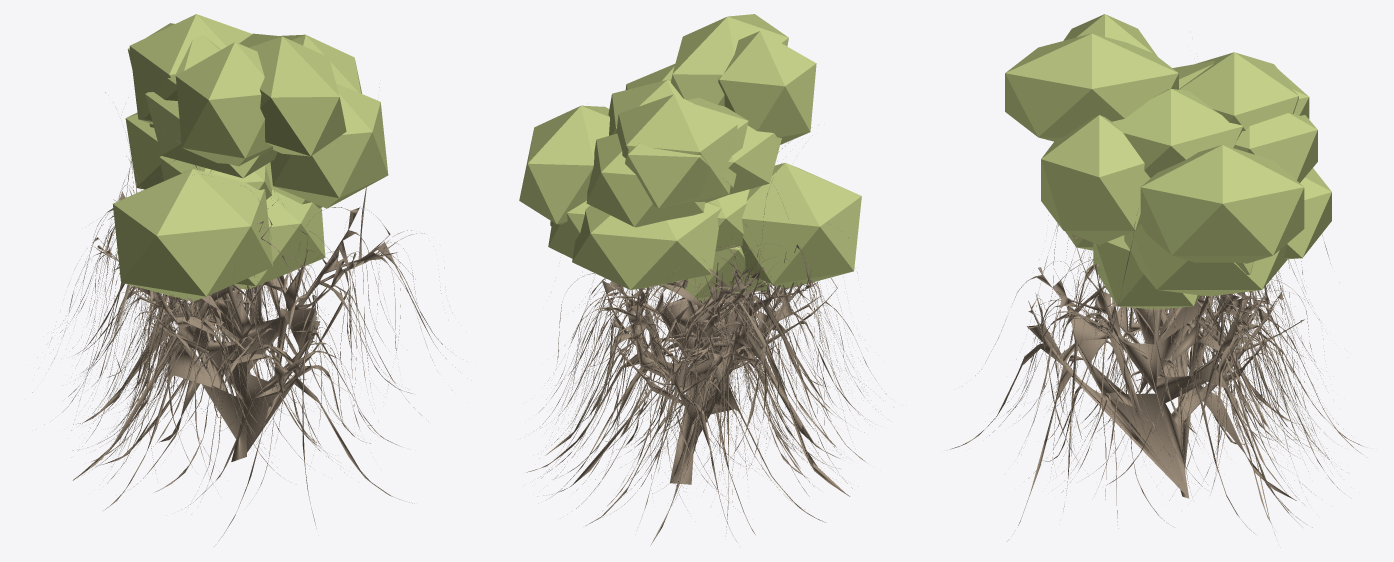
The model's file is StreetGinkgo_Willow.fbx.
3 renders of one model, left to right at view 1: azimuth 30°, elevation 25°; view 2: azimuth 150°, elevation 25°; view 3: azimuth 270°, elevation 25°, orthographic. The views are drawn at different scales.
Parts seen in each view (by area): view 1: Tree_27, StreetGinkgo_Willow_leaf_cluster_12, StreetGinkgo_Willow_leaf_cluster_00, StreetGinkgo_Willow_leaf_cluster_03, StreetGinkgo_Willow_leaf_cluster_15, StreetGinkgo_Willow_leaf_cluster_08, StreetGinkgo_Willow_leaf_cluster_13, StreetGinkgo_Willow_leaf_cluster_06, StreetGinkgo_Willow_leaf_cluster_04, StreetGinkgo_Willow_leaf_cluster_01, StreetGinkgo_Willow_leaf_cluster_02, StreetGinkgo_Willow_leaf_cluster_10; view 2: Tree_27, StreetGinkgo_Willow_leaf_cluster_12, StreetGinkgo_Willow_leaf_cluster_04, StreetGinkgo_Willow_leaf_cluster_00, StreetGinkgo_Willow_leaf_cluster_02, StreetGinkgo_Willow_leaf_cluster_08, StreetGinkgo_Willow_leaf_cluster_03, StreetGinkgo_Willow_leaf_cluster_01, StreetGinkgo_Willow_leaf_cluster_11, StreetGinkgo_Willow_leaf_cluster_06, StreetGinkgo_Willow_leaf_cluster_13, StreetGinkgo_Willow_leaf_cluster_10 (+3 smaller); view 3: Tree_27, StreetGinkgo_Willow_leaf_cluster_02, StreetGinkgo_Willow_leaf_cluster_03, StreetGinkgo_Willow_leaf_cluster_15, StreetGinkgo_Willow_leaf_cluster_07, StreetGinkgo_Willow_leaf_cluster_08, StreetGinkgo_Willow_leaf_cluster_05, StreetGinkgo_Willow_leaf_cluster_11, StreetGinkgo_Willow_leaf_cluster_13, StreetGinkgo_Willow_leaf_cluster_04, StreetGinkgo_Willow_leaf_cluster_00, StreetGinkgo_Willow_leaf_cluster_01.
Boxes of the visible parts, left/top/right/bottom form: Tree_27: left=32, top=87, right=455, bottom=546; StreetGinkgo_Willow_leaf_cluster_12: left=113, top=169, right=273, bottom=301; StreetGinkgo_Willow_leaf_cluster_00: left=175, top=42, right=272, bottom=166; StreetGinkgo_Willow_leaf_cluster_03: left=239, top=33, right=346, bottom=156; StreetGinkgo_Willow_leaf_cluster_15: left=270, top=83, right=388, bottom=208; StreetGinkgo_Willow_leaf_cluster_08: left=129, top=14, right=252, bottom=124; StreetGinkgo_Willow_leaf_cluster_13: left=232, top=190, right=325, bottom=289; StreetGinkgo_Willow_leaf_cluster_06: left=145, top=92, right=277, bottom=178; StreetGinkgo_Willow_leaf_cluster_04: left=125, top=112, right=163, bottom=189; StreetGinkgo_Willow_leaf_cluster_01: left=127, top=23, right=221, bottom=121; StreetGinkgo_Willow_leaf_cluster_02: left=280, top=34, right=361, bottom=93; StreetGinkgo_Willow_leaf_cluster_10: left=159, top=156, right=271, bottom=199; Tree_27: left=526, top=128, right=886, bottom=545; StreetGinkgo_Willow_leaf_cluster_12: left=740, top=162, right=861, bottom=289; StreetGinkgo_Willow_leaf_cluster_04: left=572, top=202, right=721, bottom=289; StreetGinkgo_Willow_leaf_cluster_00: left=718, top=31, right=816, bottom=144; StreetGinkgo_Willow_leaf_cluster_02: left=519, top=105, right=609, bottom=224; StreetGinkgo_Willow_leaf_cluster_08: left=616, top=94, right=737, bottom=207; StreetGinkgo_Willow_leaf_cluster_03: left=671, top=14, right=788, bottom=106; StreetGinkgo_Willow_leaf_cluster_01: left=625, top=98, right=748, bottom=208; StreetGinkgo_Willow_leaf_cluster_11: left=586, top=133, right=705, bottom=227; StreetGinkgo_Willow_leaf_cluster_06: left=728, top=125, right=781, bottom=194; StreetGinkgo_Willow_leaf_cluster_13: left=658, top=246, right=769, bottom=302; StreetGinkgo_Willow_leaf_cluster_10: left=708, top=189, right=749, bottom=251; Tree_27: left=950, top=208, right=1364, bottom=541; StreetGinkgo_Willow_leaf_cluster_02: left=1140, top=145, right=1304, bottom=263; StreetGinkgo_Willow_leaf_cluster_03: left=1005, top=33, right=1178, bottom=141; StreetGinkgo_Willow_leaf_cluster_15: left=1041, top=115, right=1150, bottom=244; StreetGinkgo_Willow_leaf_cluster_07: left=1112, top=89, right=1243, bottom=178; StreetGinkgo_Willow_leaf_cluster_08: left=1179, top=52, right=1298, bottom=131; StreetGinkgo_Willow_leaf_cluster_05: left=1124, top=223, right=1287, bottom=296; StreetGinkgo_Willow_leaf_cluster_11: left=1234, top=113, right=1317, bottom=182; StreetGinkgo_Willow_leaf_cluster_13: left=1093, top=235, right=1199, bottom=309; StreetGinkgo_Willow_leaf_cluster_04: left=1284, top=168, right=1331, bottom=259; StreetGinkgo_Willow_leaf_cluster_00: left=1063, top=14, right=1157, bottom=56; StreetGinkgo_Willow_leaf_cluster_01: left=1172, top=60, right=1309, bottom=118.
Size of the model in its own units: 541 by 613 by 512.
